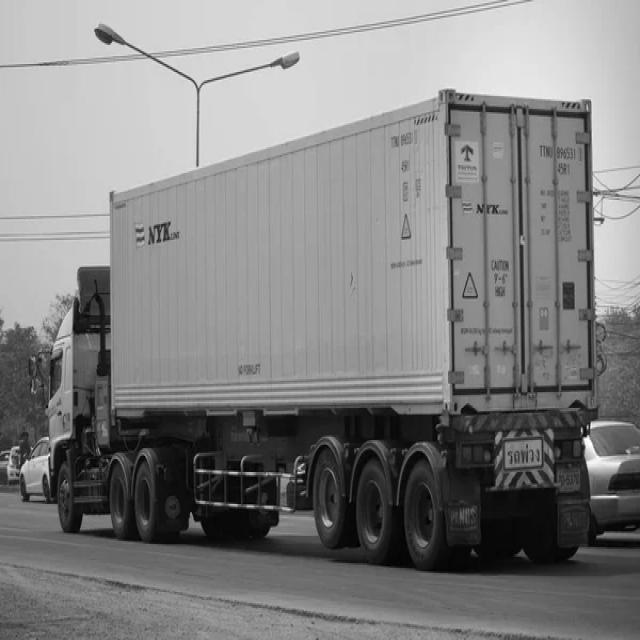Car: (585, 421, 640, 545), (19, 437, 49, 503)
Truck: (46, 91, 597, 570)
